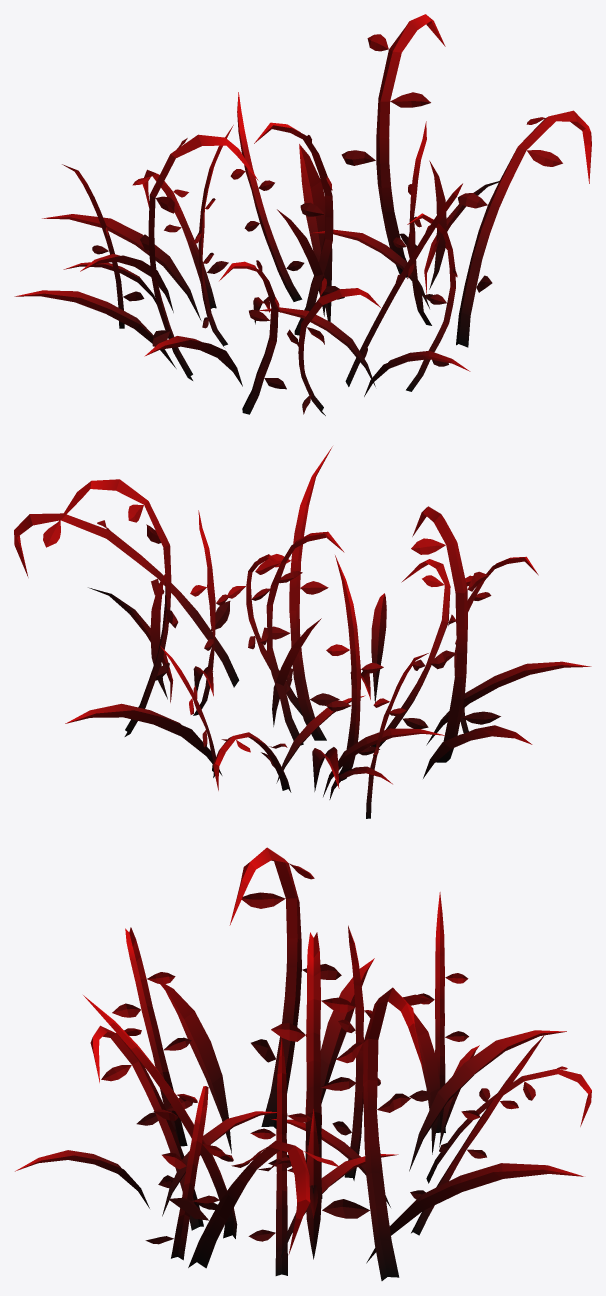
Rendered from grass02-1.fbx.
3 views of the same model, one above another, from view 1: azimuth 30°, elevation 25°; view 2: azimuth 150°, elevation 25°; view 3: azimuth 270°, elevation 25° (orthographic). The views are drawn at different scales.
Visible parts, largest first — view 1: grass02-1, Plane.001; view 2: grass02-1, Plane.001; view 3: grass02-1, Plane.001.
Part boxes in pixels (left/top/right/bottom): grass02-1: left=62, top=14, right=591, bottom=415; Plane.001: left=14, top=144, right=499, bottom=396; grass02-1: left=14, top=446, right=538, bottom=818; Plane.001: left=65, top=574, right=591, bottom=799; grass02-1: left=83, top=847, right=591, bottom=1280; Plane.001: left=15, top=958, right=583, bottom=1263.
Bounding box in the file's own units: 478 × 244 × 376.
